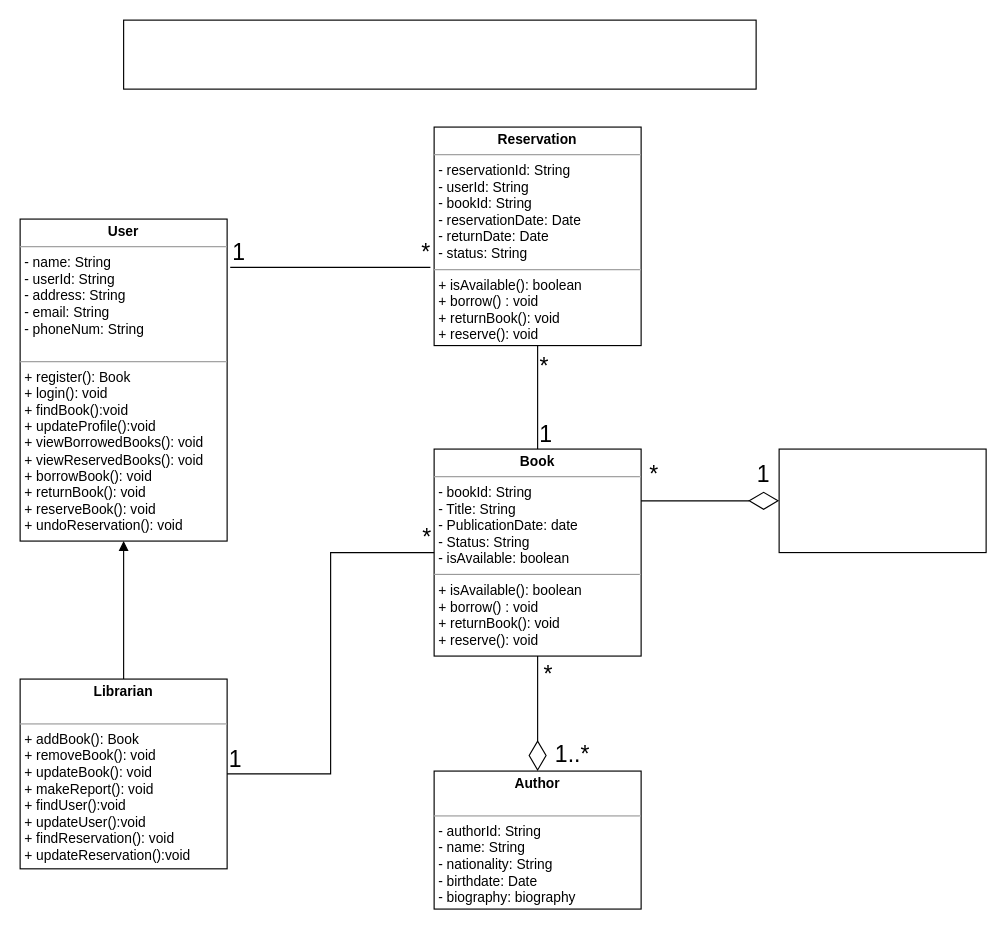
Image size: 1006x929. Some labels were removed from this diagram. Here are the shapes that lost their labels. From the top down, the box of each, then its label:
(122, 19, 756, 89): Library Management System Class Diagram
(778, 448, 986, 553): Genre - genreId: String - name: String - description: String
